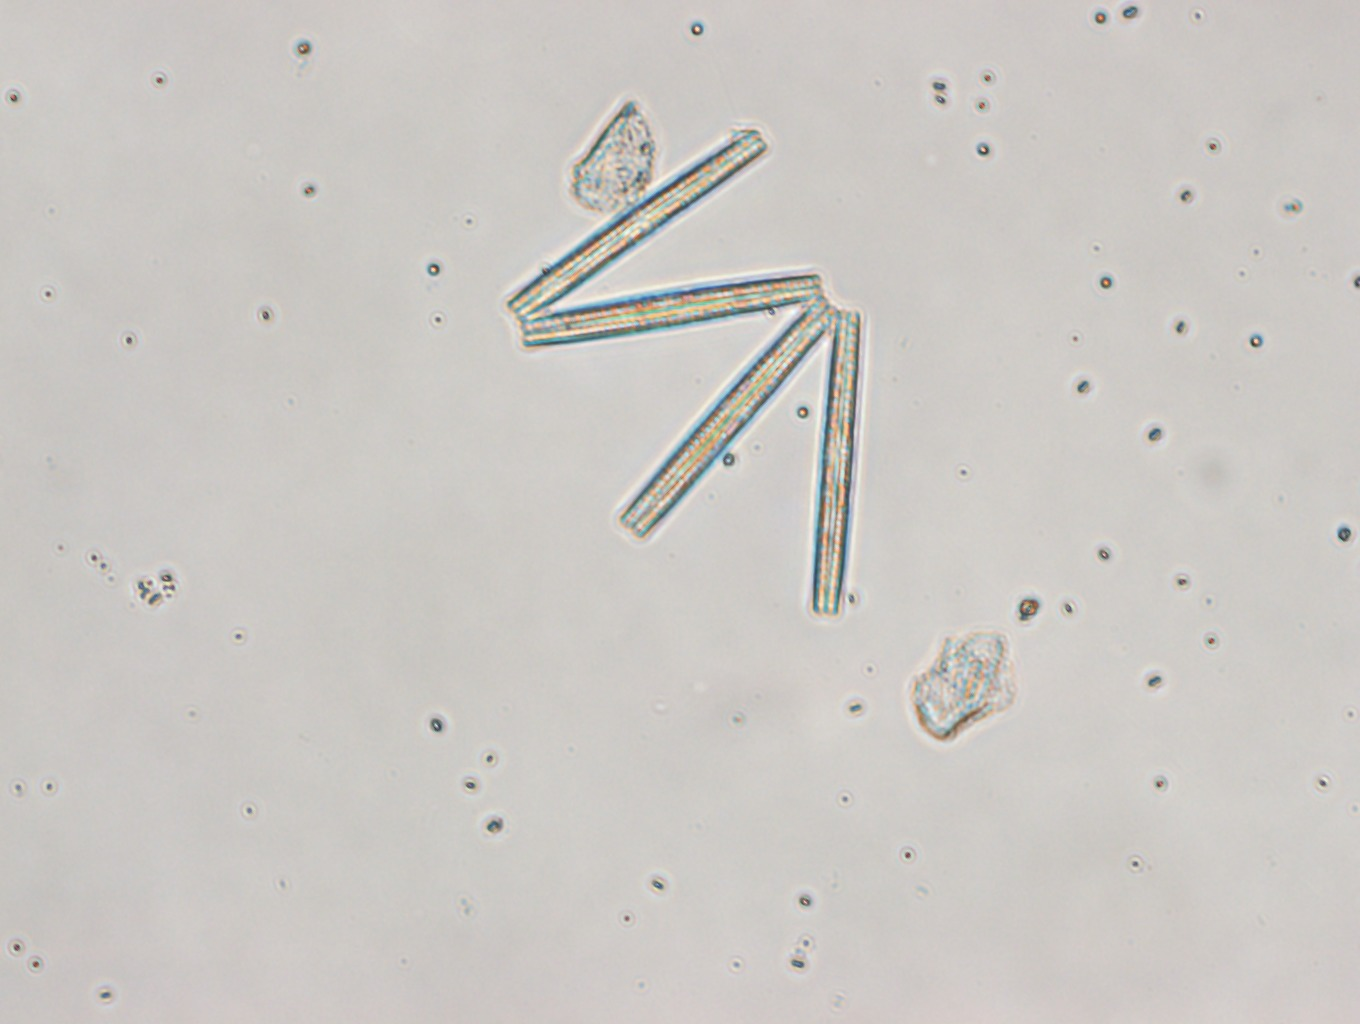thalassionema nitzschioides: (505, 126, 863, 618)
